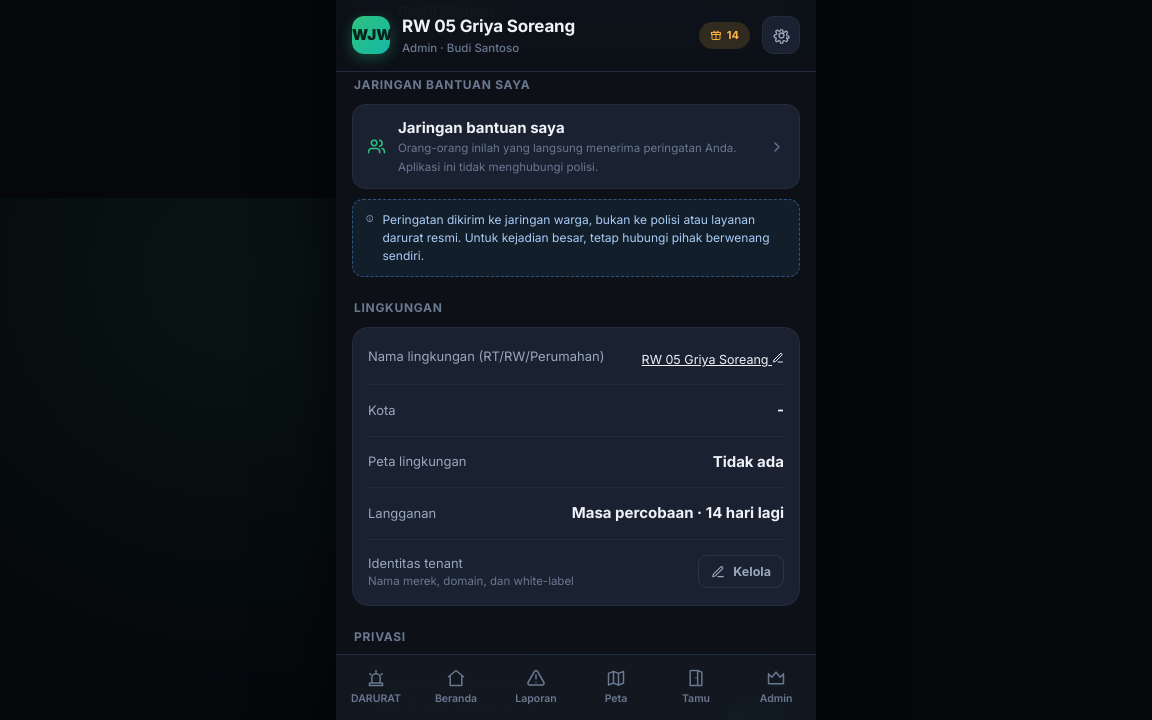
Scenario: halaman Pengaturan › admin bisa mengganti nama dan kota dari sini
(page scrolled)
Click the button "RW 05 Griya Soreang" at (713, 361), box left=642, top=351, right=784, bottom=370
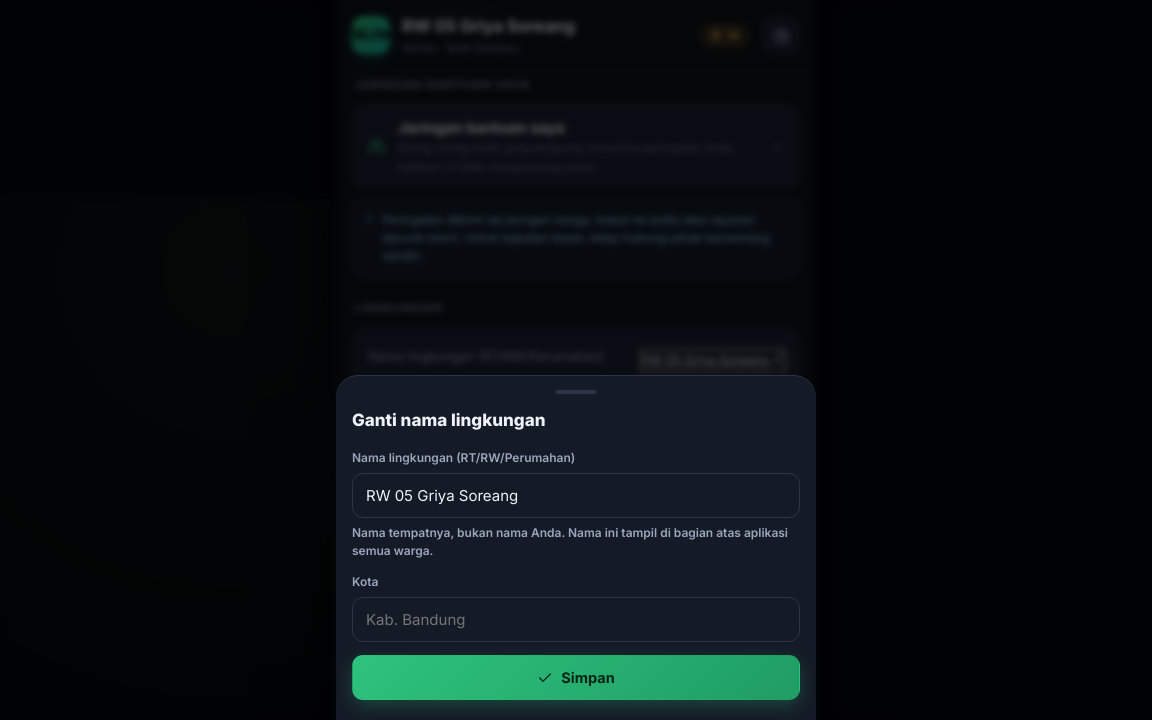
Type "The Regent" into the field showing "RW 05 Griya Soreang" at (576, 496), box left=352, top=473, right=800, bottom=518
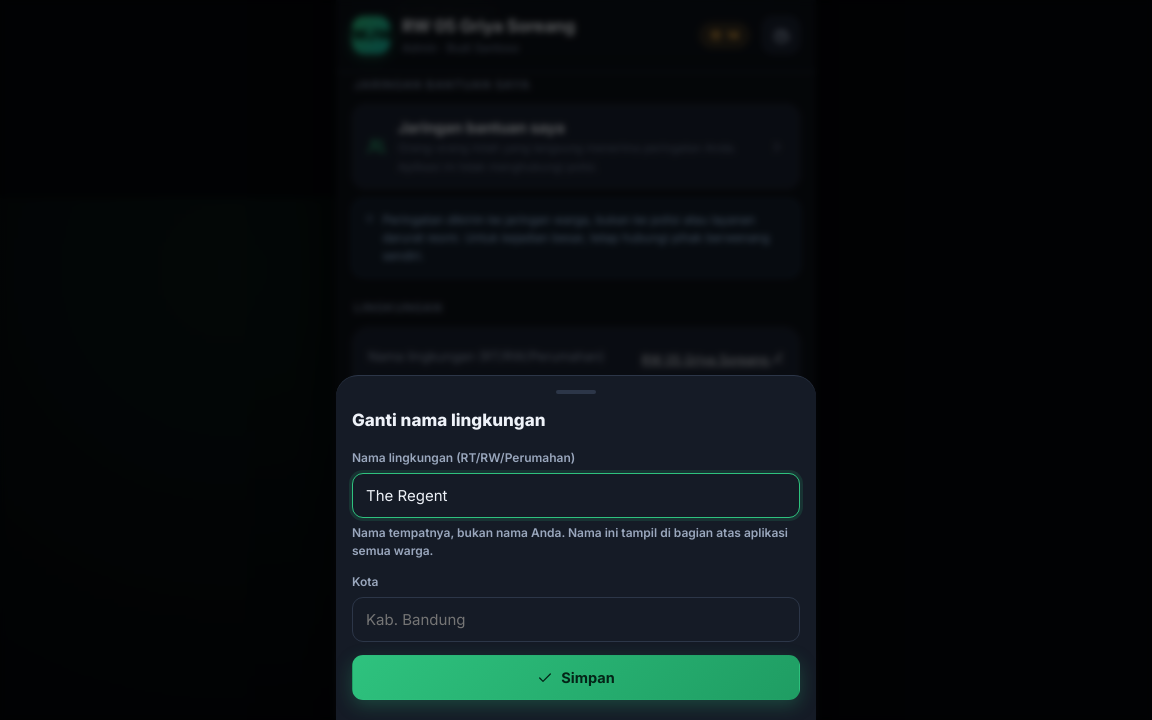
Type "Tangerang Selatan" into the field with placeholder "Kab. Bandung" at (576, 620), box left=352, top=597, right=800, bottom=642
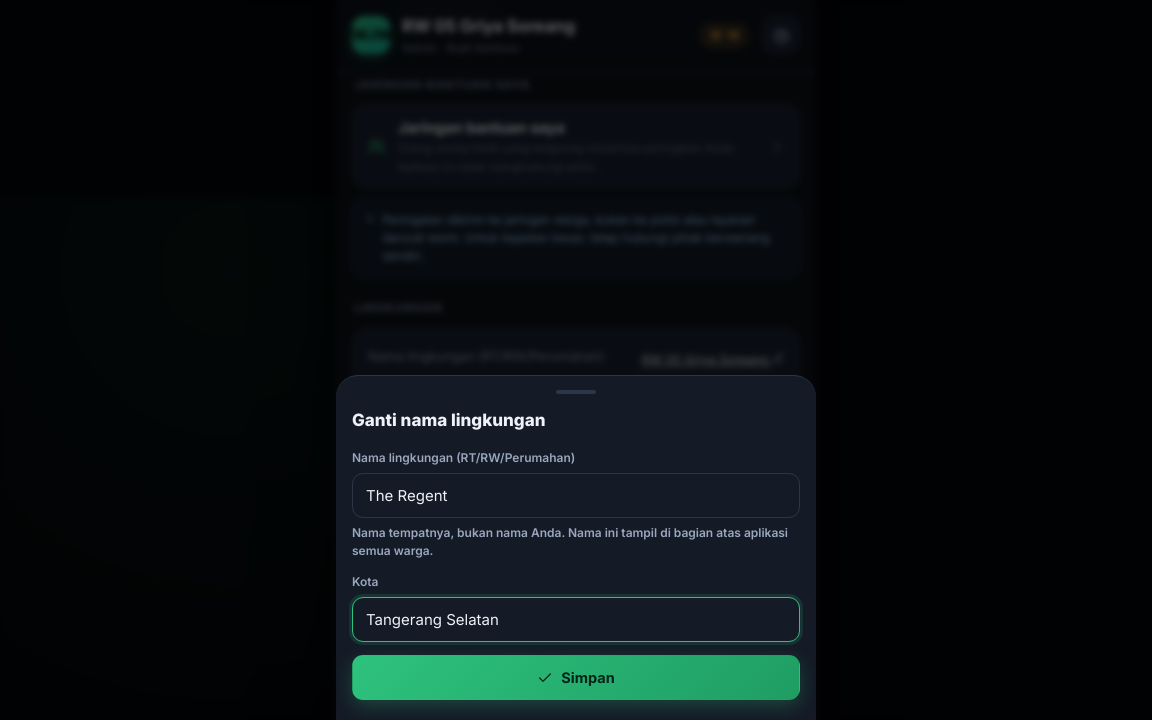
Click the button "Simpan" at (576, 678), box left=352, top=655, right=800, bottom=700
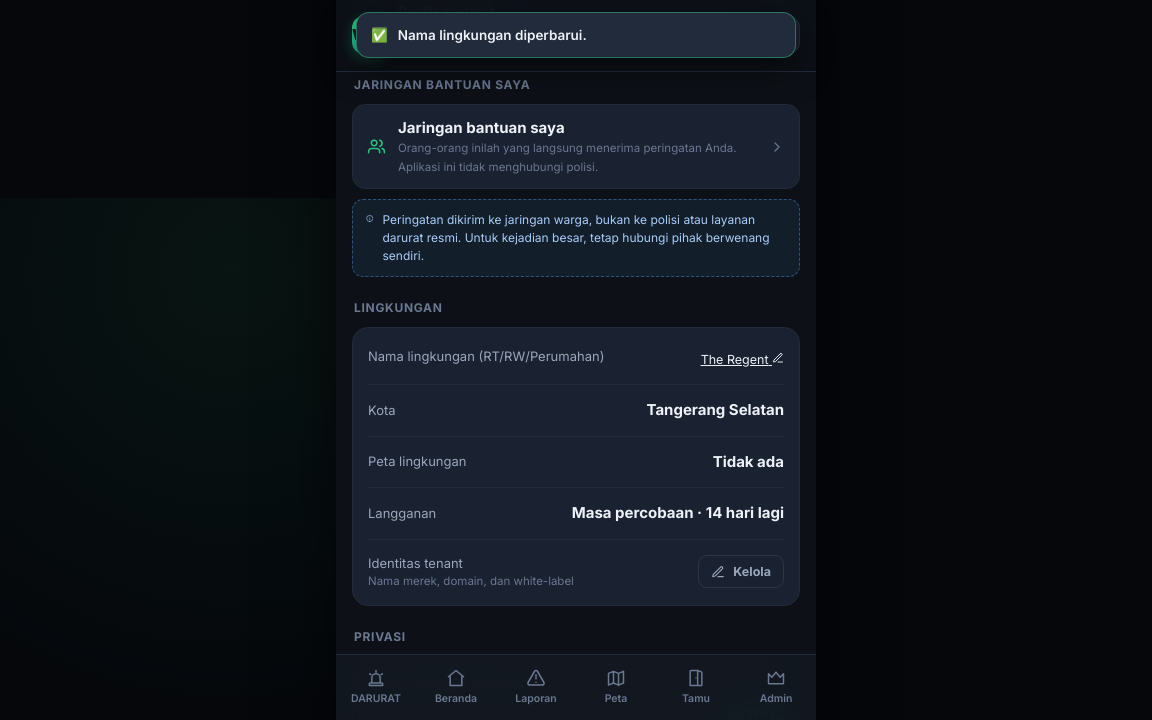
Now the heading "The Regent" is shown, box left=402, top=16, right=495, bottom=36
Now the text "Tangerang Selatan" is shown, box left=646, top=399, right=784, bottom=422
